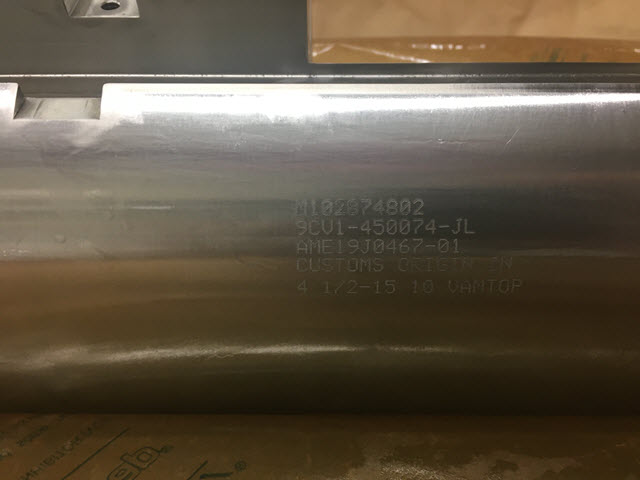character: (295, 254, 312, 276), (420, 276, 436, 298), (508, 277, 524, 299), (360, 193, 374, 218), (346, 198, 361, 221), (331, 278, 348, 298), (344, 234, 360, 255), (383, 216, 399, 237), (398, 195, 414, 216), (334, 215, 348, 238), (410, 216, 424, 239), (436, 214, 450, 237), (296, 277, 312, 297), (307, 237, 322, 258), (369, 275, 383, 297), (407, 276, 421, 298), (461, 214, 475, 236), (306, 218, 322, 237), (356, 256, 371, 276), (370, 237, 385, 257), (409, 236, 424, 256), (370, 216, 385, 236), (398, 217, 413, 237), (450, 214, 463, 237), (383, 277, 397, 298), (320, 255, 334, 276), (384, 196, 398, 217), (321, 215, 334, 237), (356, 217, 371, 236), (470, 277, 485, 296), (436, 237, 450, 257), (450, 234, 462, 257), (424, 214, 436, 237), (384, 237, 397, 258), (423, 237, 438, 255), (458, 278, 473, 296), (295, 237, 309, 256), (496, 277, 510, 296), (334, 255, 347, 275), (321, 236, 334, 256), (397, 236, 410, 256), (357, 278, 373, 294), (344, 279, 358, 297), (308, 256, 322, 274), (358, 236, 372, 254), (319, 279, 332, 298), (332, 236, 345, 255), (295, 218, 308, 237), (374, 198, 386, 218), (484, 276, 496, 296), (412, 199, 426, 216), (446, 278, 460, 295), (346, 256, 358, 274), (347, 218, 359, 236), (371, 257, 383, 273)
